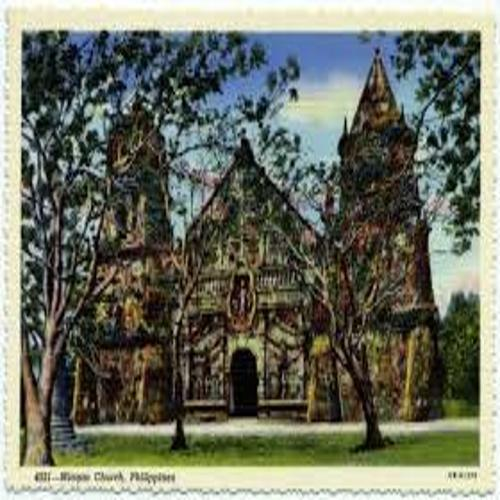Miagao Church: (87, 57, 448, 427)
